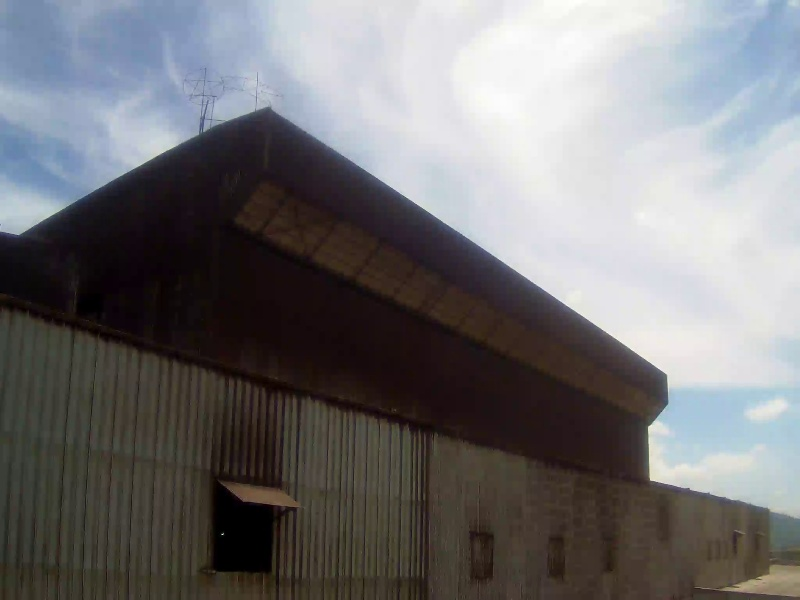bom: (256, 78, 673, 435), (3, 12, 275, 162), (592, 275, 791, 448)
